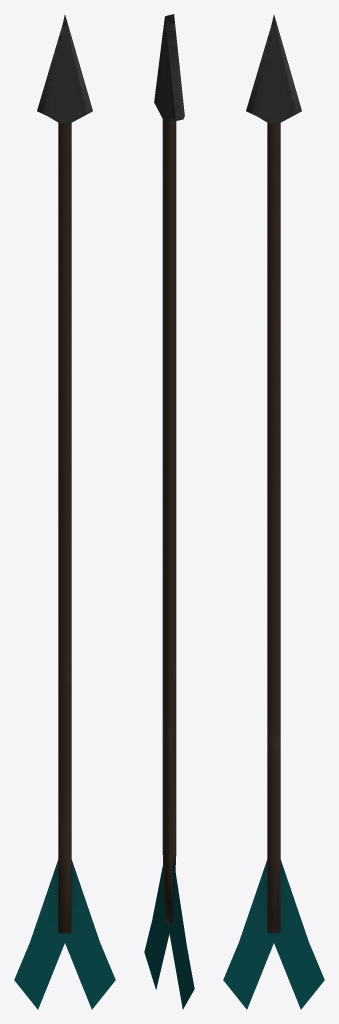
Rendered from skeleton_archer_arrow.fbx.
3 views of the same model, side by side, from view 1: azimuth 90°, elevation 25°; view 2: azimuth 210°, elevation 25°; view 3: azimuth 270°, elevation 25° (orthographic).
Parts seen in each view (by area): view 1: skeleton_archer_arrow; view 2: skeleton_archer_arrow; view 3: skeleton_archer_arrow.
Boxes of the visible parts, x1,y1,x2,y2 form: skeleton_archer_arrow: [14, 15, 115, 1009]; skeleton_archer_arrow: [144, 14, 194, 1009]; skeleton_archer_arrow: [223, 15, 324, 1009].
Size of the model in its own units: 0.536 by 54.96 by 5.1.
